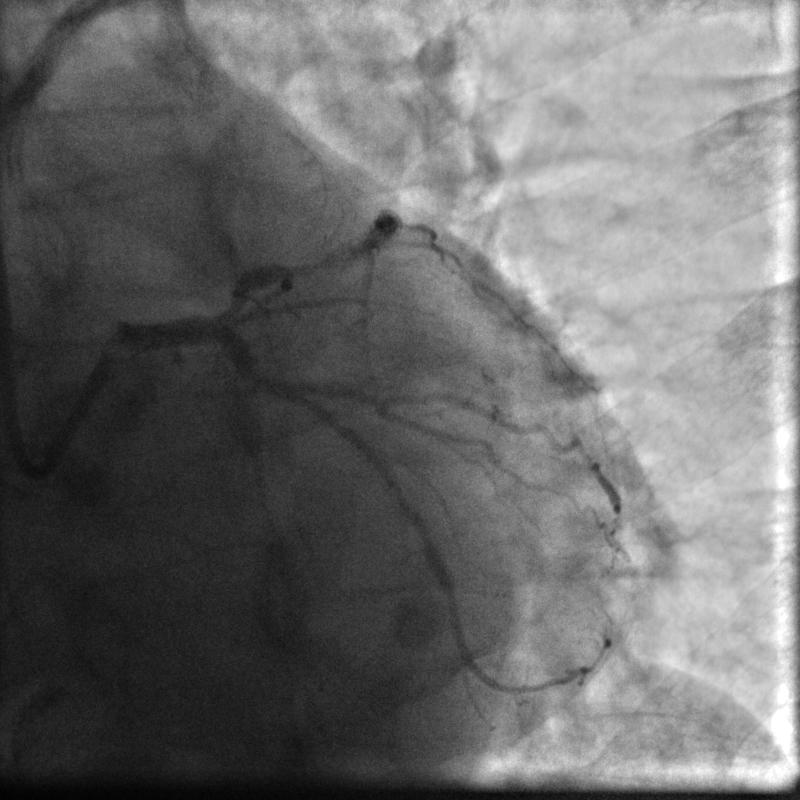Stenosis: (203, 277, 250, 325)
